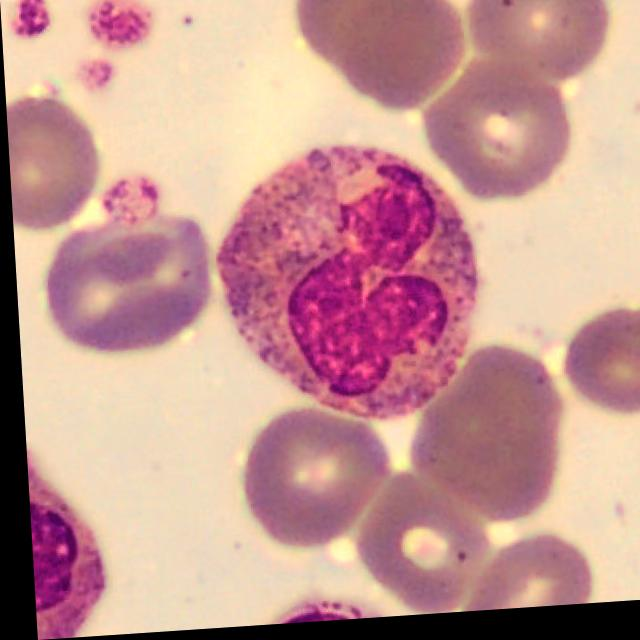Neutrofilo segmentado: (215, 148, 471, 426)
